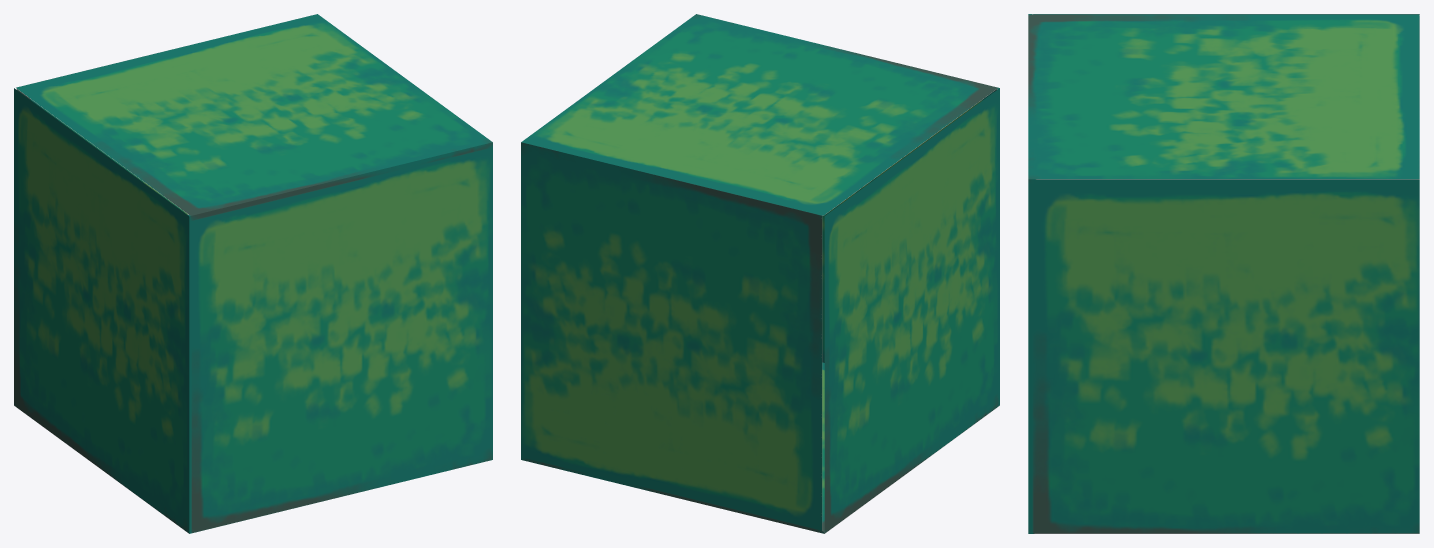
3 views of the same model, side by side, from view 1: azimuth 30°, elevation 25°; view 2: azimuth 150°, elevation 25°; view 3: azimuth 270°, elevation 25° (orthographic). The views are drawn at different scales.
Visible parts, largest first — view 1: pasted__pCube1; view 2: pasted__pCube1; view 3: pasted__pCube1.
Boxes of the visible parts, x1,y1,x2,y2 form: pasted__pCube1: (14, 14, 492, 533); pasted__pCube1: (521, 14, 999, 533); pasted__pCube1: (1028, 14, 1419, 533).
Size of the model in its own units: 1 by 1 by 1.
Materials: 1 (1 with a texture image).
